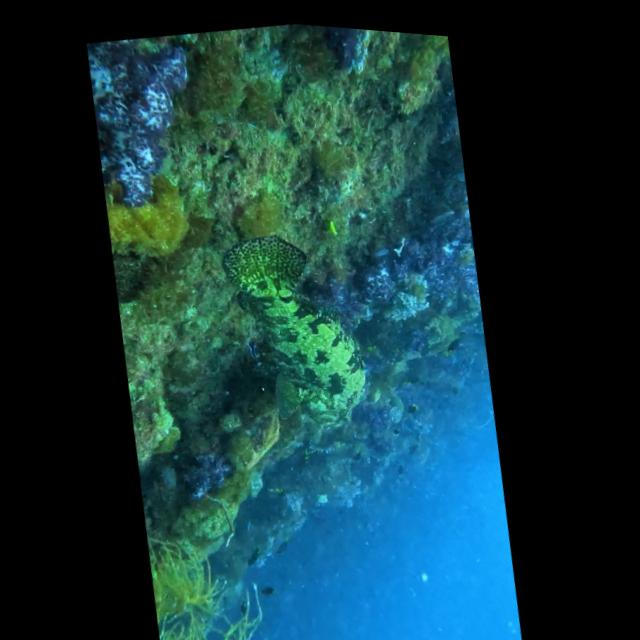Groupers: (210, 218, 381, 446)
